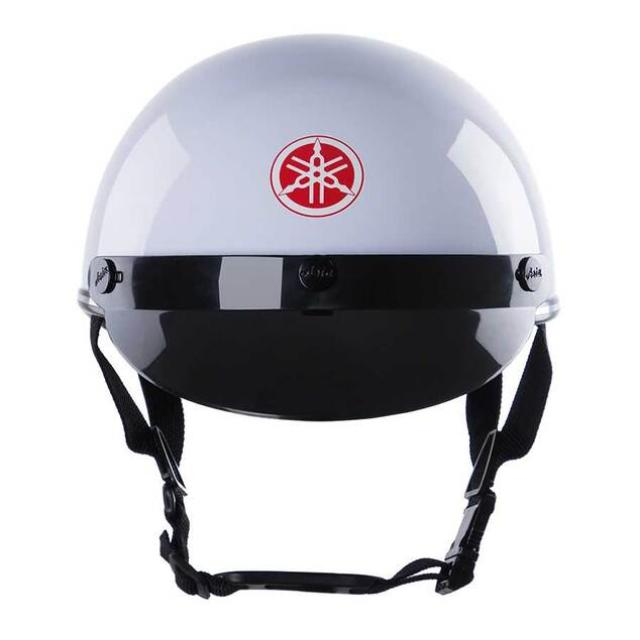Helmet: (65, 22, 561, 616)
